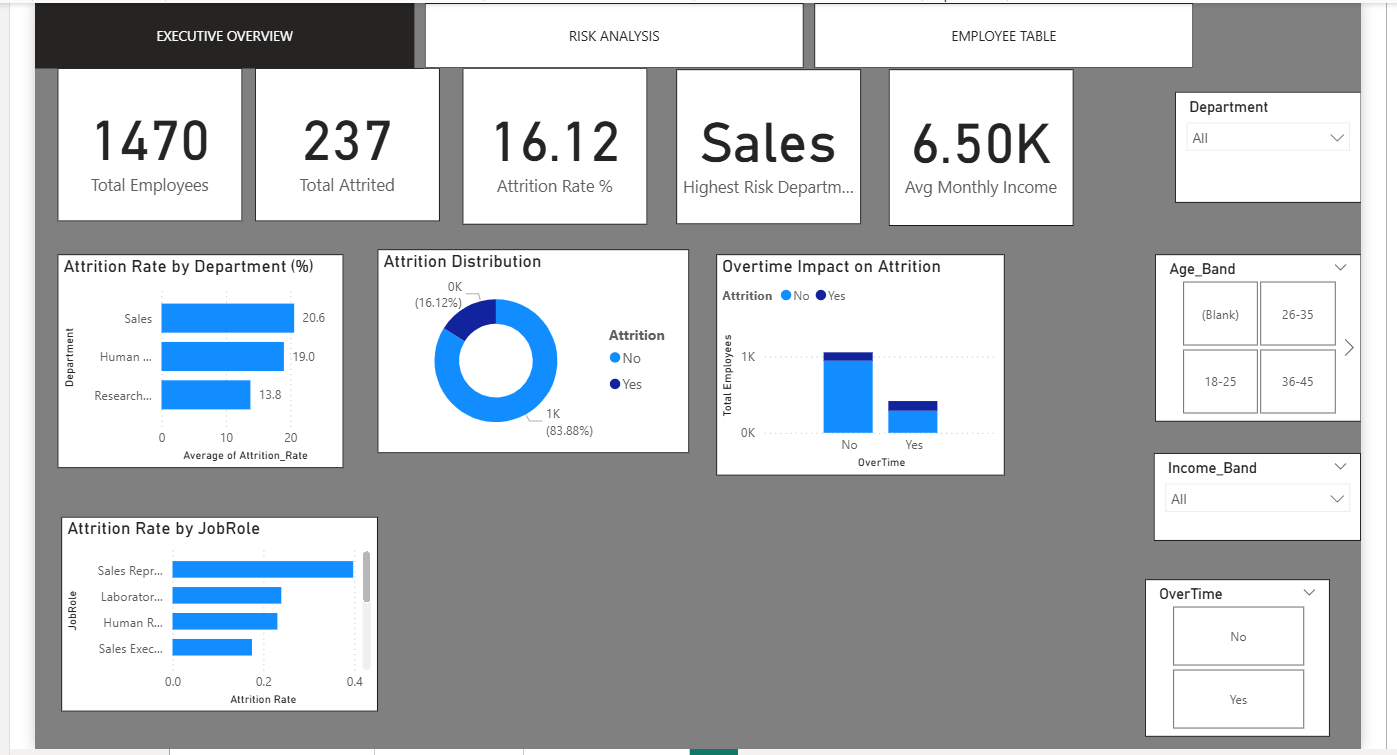

The page's visual inventory and layout, read from the dashboard file:
{"tool":"powerbi","page":{"name":"EXECUTIVE OVERVIEW","canvas":[1280,720],"ordinal":0},"visuals":[{"type":"card","fields":{"Values":["Employee_Data.Total Employees"]},"box":[0,63.9,197.9,161.7],"z":0},{"type":"card","fields":{"Values":["Age_Summary.Total Attrited"]},"box":[212.3,62.7,200.3,162.9],"z":1000},{"type":"card","fields":{"Values":["Dept_Summary.Highest Risk Department"]},"box":[618.9,63.9,205.1,161.7],"z":2000},{"type":"card","fields":{"Values":["Age_Summary.Avg Monthly Income"]},"box":[824,63.9,224.4,161.7],"z":3000},{"type":"card","fields":{"Values":["Employee_Data.Attrition Rate %"]},"box":[412.6,62.7,206.3,162.9],"z":4000},{"type":"donutChart","title":"Attrition Distribution","fields":{"Category":["Employee_Data.Attrition"],"Y":["Employee_Data.Total Employees"]},"box":[330.6,218.4,326.9,258.2],"z":5000},{"type":"clusteredBarChart","title":"Attrition Rate by Department (%)","fields":{"Category":["Dept_Summary.Department"],"Y":["Avg(Dept_Summary.Attrition_Rate)"]},"box":[21.7,242.5,276.3,206.3],"z":6000},{"type":"clusteredBarChart","fields":{"Y":["Age_Summary.Attrition Rate"],"Category":["Employee_Data.JobRole"]},"box":[25.3,495.8,305.2,188.2],"z":7000},{"type":"slicer","fields":{"Values":["Employee_Data.Department"]},"box":[1056.8,85.7,223.2,139.9],"z":8000},{"type":"slicer","fields":{"Values":["Age_Summary.Age_Band"]},"box":[1081,242.5,199.1,161.7],"z":9000},{"type":"slicer","fields":{"Values":["Employee_Data.OverTime"]},"box":[1071.3,556.2,178.6,152],"z":10000},{"type":"slicer","fields":{"Values":["Employee_Data.Income_Band"]},"box":[1079.8,434.3,200.3,84.5],"z":11000},{"type":"columnChart","title":"Overtime Impact on Attrition","fields":{"Category":["Employee_Data.OverTime"],"Y":["Employee_Data.Total Employees"],"Series":["Employee_Data.Attrition"]},"box":[657.5,225.6,423.5,298],"z":12000},{"type":"pageNavigator","box":[0,0,1118.4,63.9],"z":13000}]}

Visuals, with their boxes on the page's 1280x720 design canvas (x1, y1, x2, y2). These are canvas units, not pixel positions in the 1397x755 screenshot, which may show the page scaled, cropped or inside an application window:
card - Employee_Data.Total Employees: x1=0 y1=64 x2=198 y2=226
card - Age_Summary.Total Attrited: x1=212 y1=63 x2=413 y2=226
card - Dept_Summary.Highest Risk Department: x1=619 y1=64 x2=824 y2=226
card - Age_Summary.Avg Monthly Income: x1=824 y1=64 x2=1048 y2=226
card - Employee_Data.Attrition Rate %: x1=413 y1=63 x2=619 y2=226
"Attrition Distribution" donutChart: x1=331 y1=218 x2=658 y2=477
"Attrition Rate by Department (%)" clusteredBarChart: x1=22 y1=242 x2=298 y2=449
clusteredBarChart - Age_Summary.Attrition Rate x Employee_Data.JobRole: x1=25 y1=496 x2=330 y2=684
slicer - Employee_Data.Department: x1=1057 y1=86 x2=1280 y2=226
slicer - Age_Summary.Age_Band: x1=1081 y1=242 x2=1280 y2=404
slicer - Employee_Data.OverTime: x1=1071 y1=556 x2=1250 y2=708
slicer - Employee_Data.Income_Band: x1=1080 y1=434 x2=1280 y2=519
"Overtime Impact on Attrition" columnChart: x1=658 y1=226 x2=1081 y2=524
pageNavigator: x1=0 y1=0 x2=1118 y2=64
